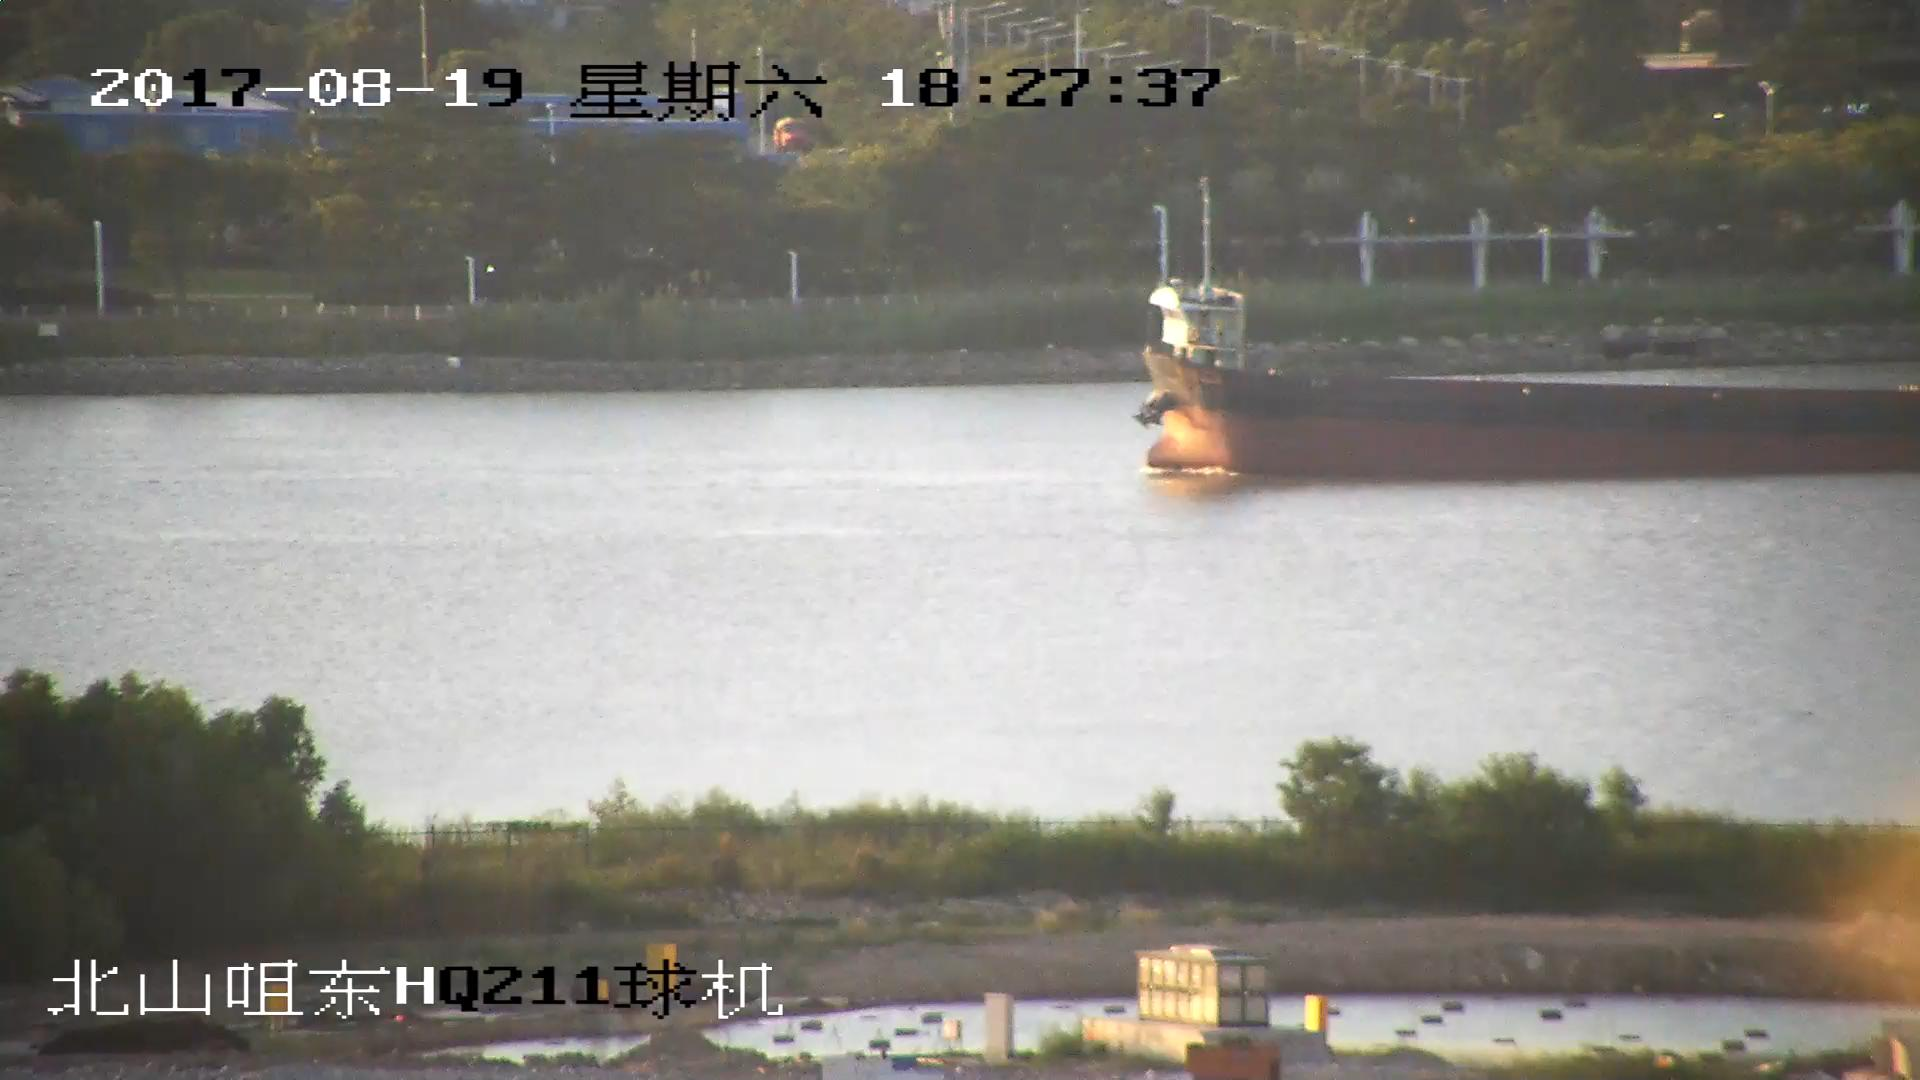general cargo ship: (1140, 285, 1920, 471)
